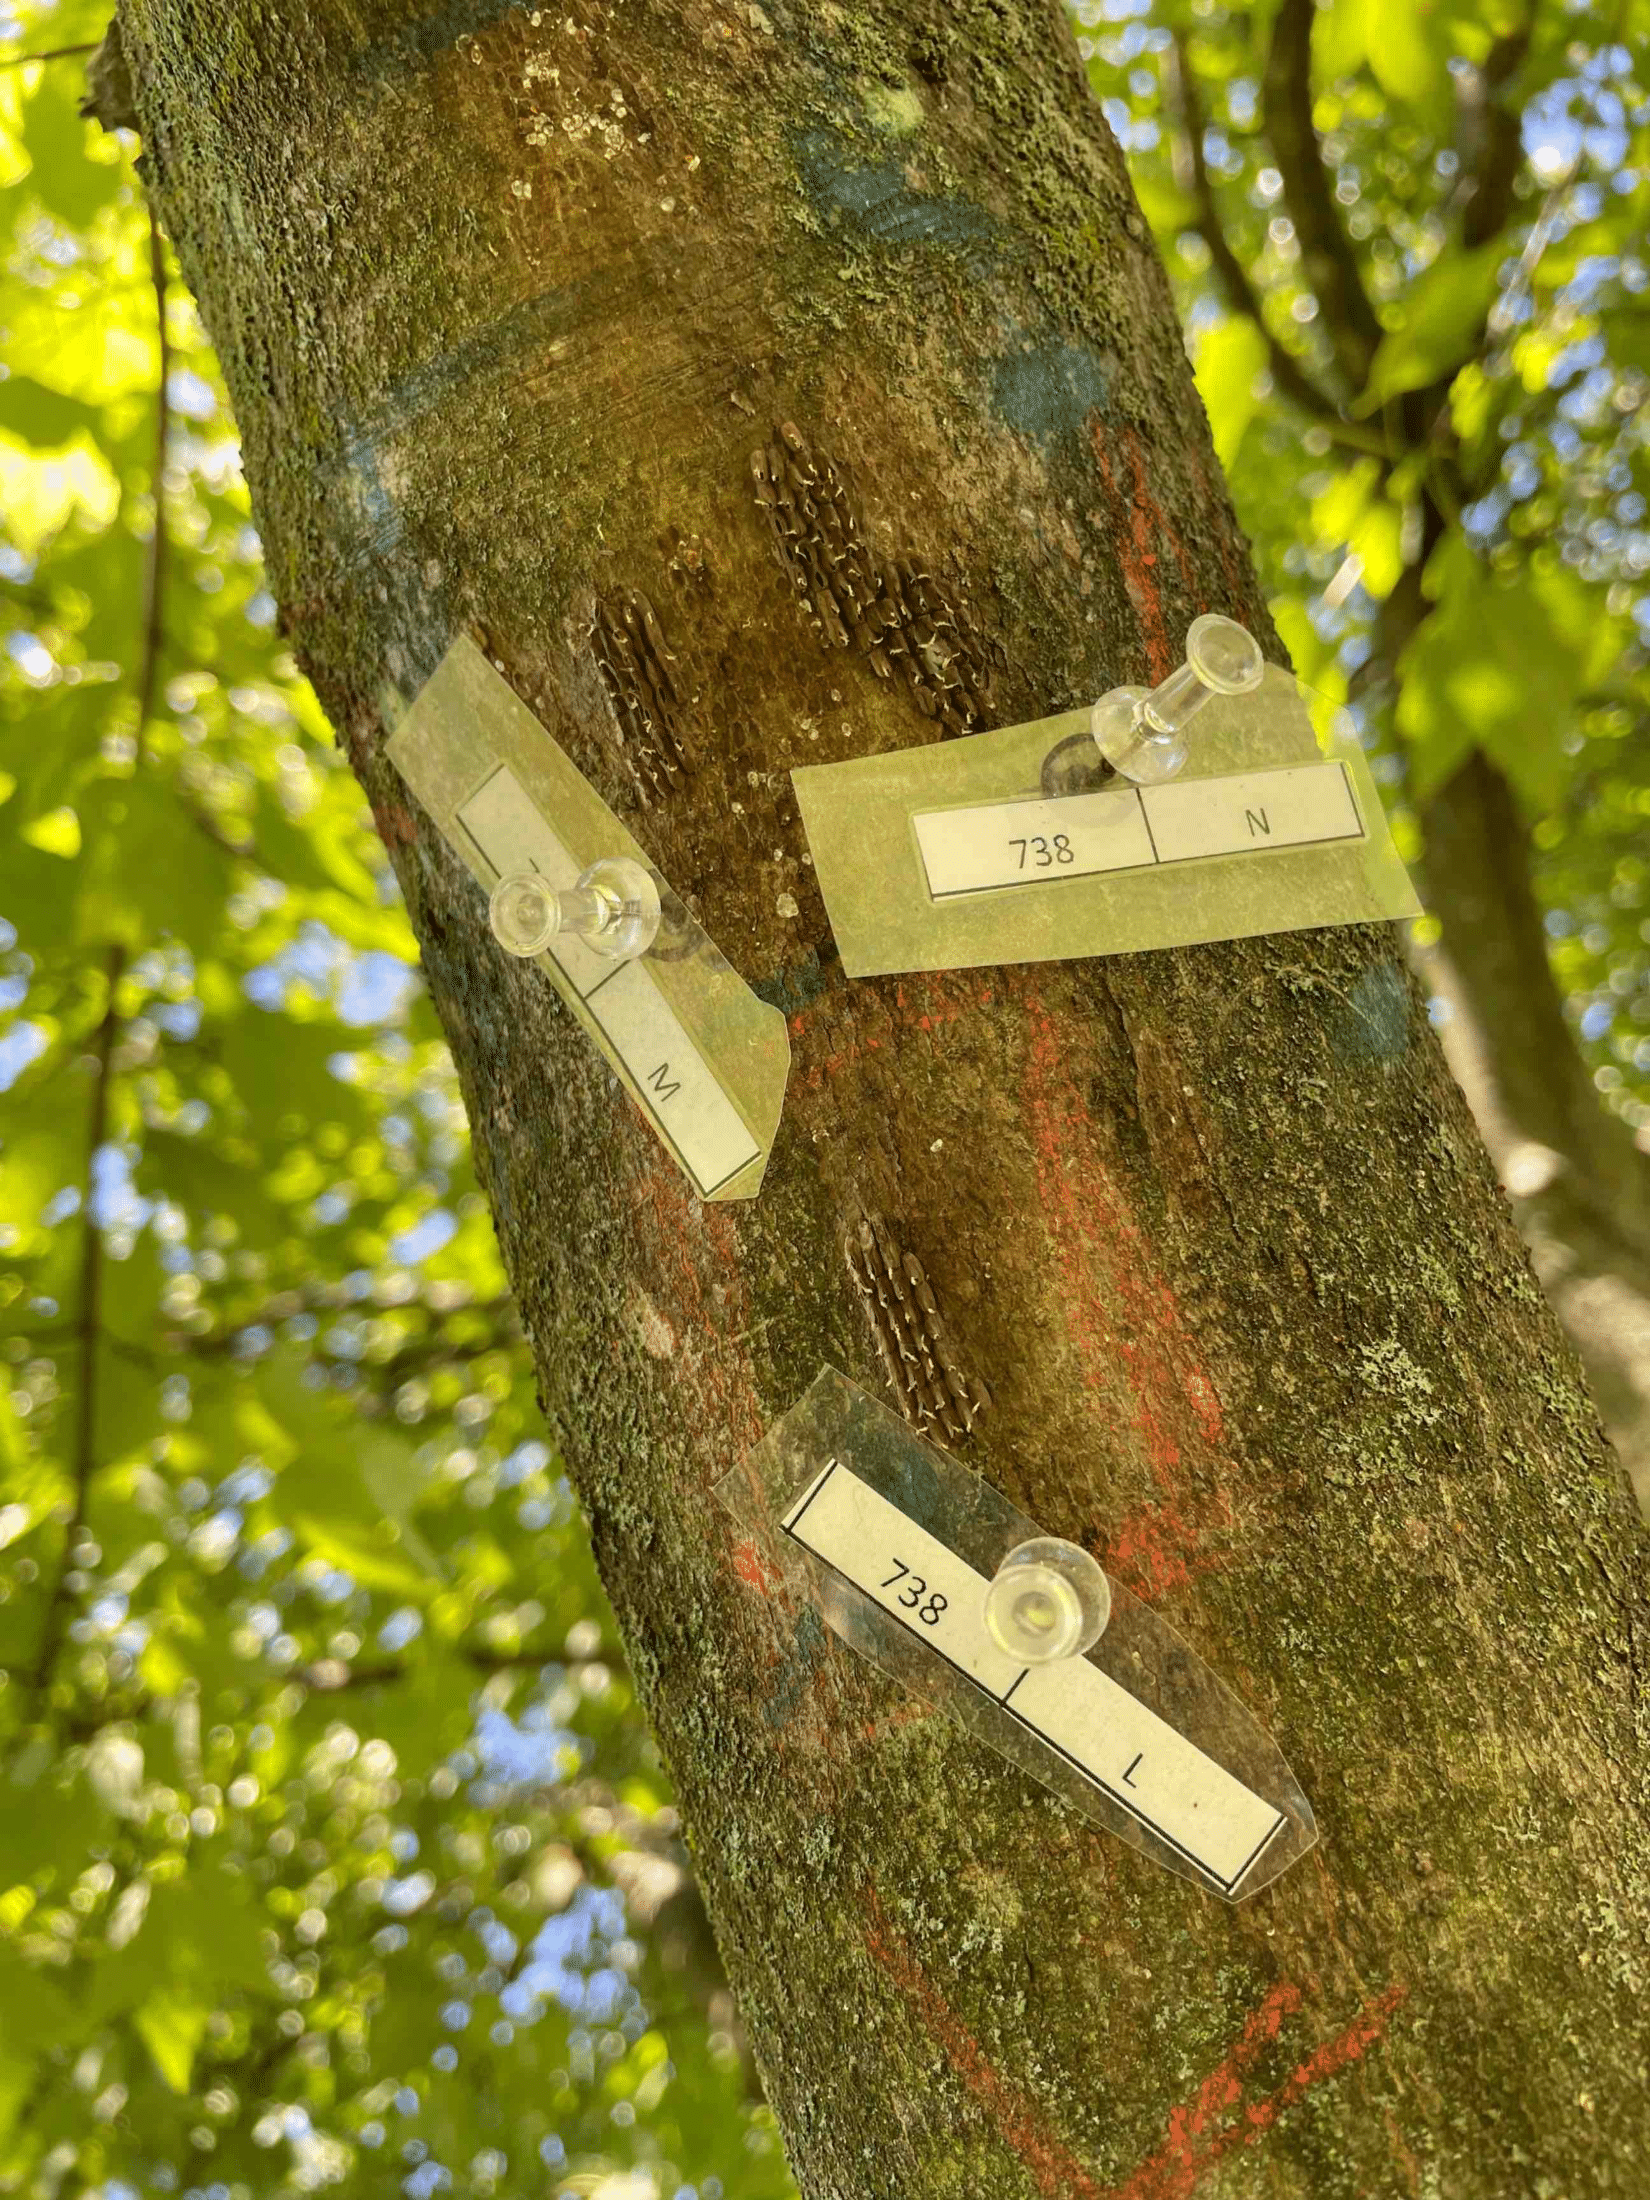egg masses: (733, 419, 979, 733), (828, 1214, 974, 1433), (565, 586, 692, 807)
